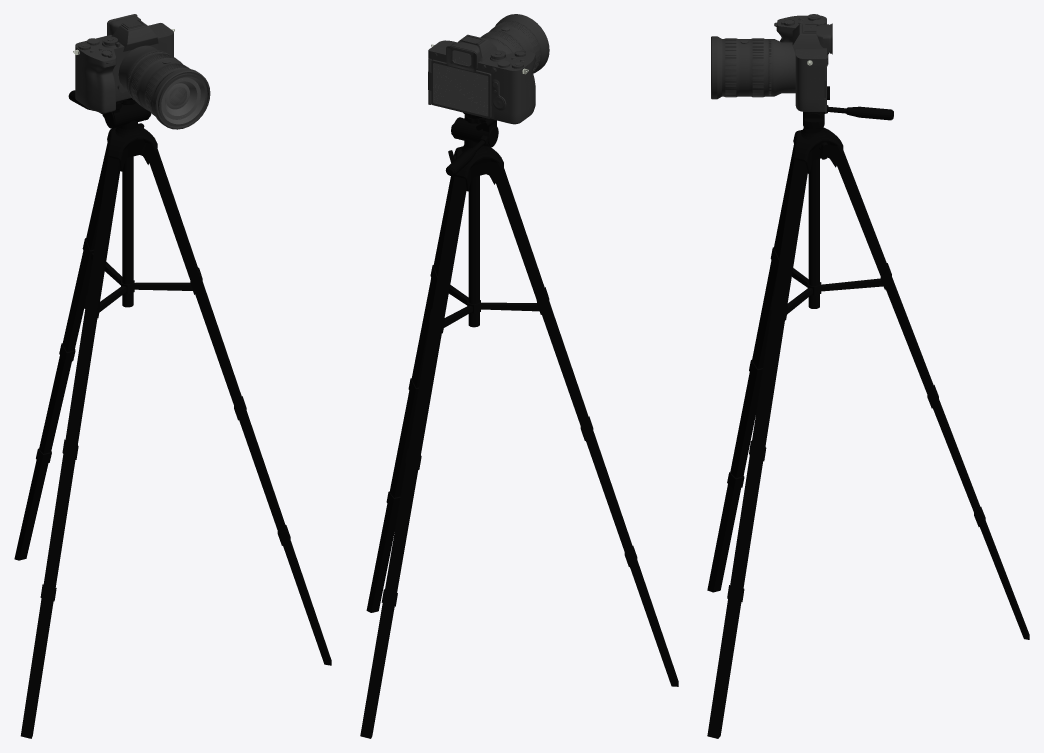
The model's file is camera-tripod.glb.
The picture shows the model from 3 angles, left to right: view 1: azimuth 30°, elevation 25°; view 2: azimuth 150°, elevation 25°; view 3: azimuth 270°, elevation 25°; orthographic projection.
Parts seen in each view (by area): view 1: Object_4; view 2: Object_4; view 3: Object_4.
Boxes of the visible parts, x1,y1,x2,y2 form: Object_4: (14, 14, 331, 738); Object_4: (360, 14, 678, 738); Object_4: (707, 14, 1029, 738).
Bounding box in the file's own units: 1.26 × 2.47 × 1.13.
Materials: 2 (2 with a texture image).
